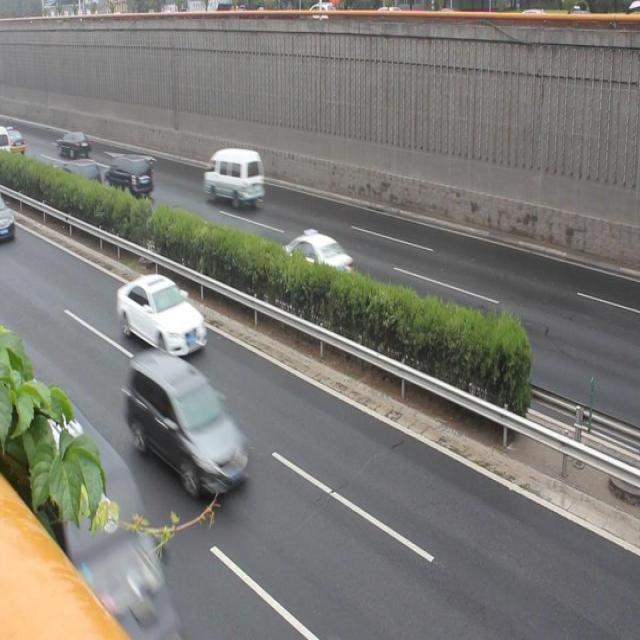car: (127, 346, 252, 499), (112, 272, 206, 367), (279, 226, 358, 288)
truck: (12, 393, 184, 640), (202, 147, 262, 207), (107, 152, 152, 200)
